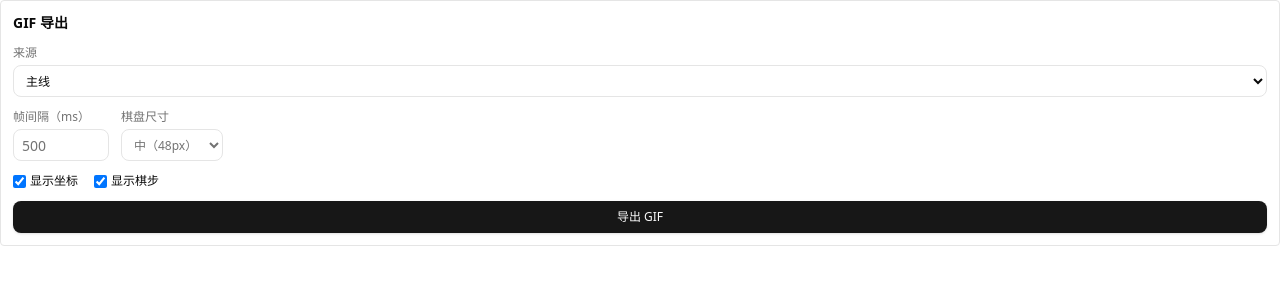
Scenario: GifExportPanel › exports the mainline with options
This screenshot has width=1280, height=291.
Replace the text in the number field with test id "gif-delay" with "300" at coordinates (61, 145), box [13,129,109,161]
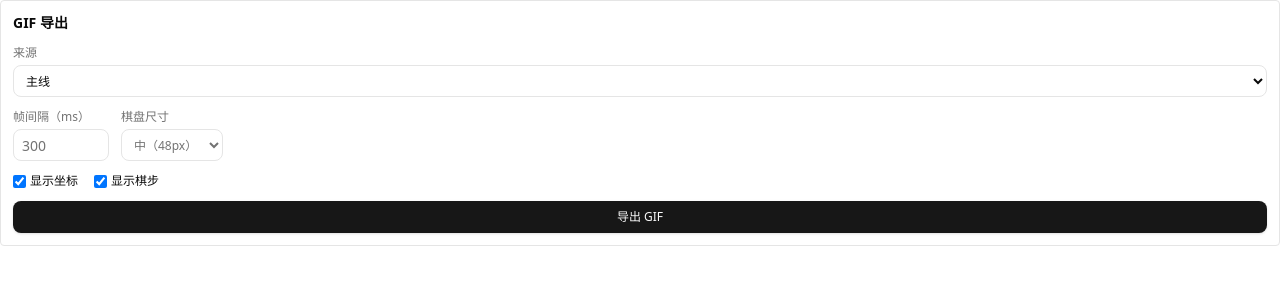
Select "大（64px）" in the dropdown with test id "gif-cell" at coordinates (172, 145), box [121,129,223,161]
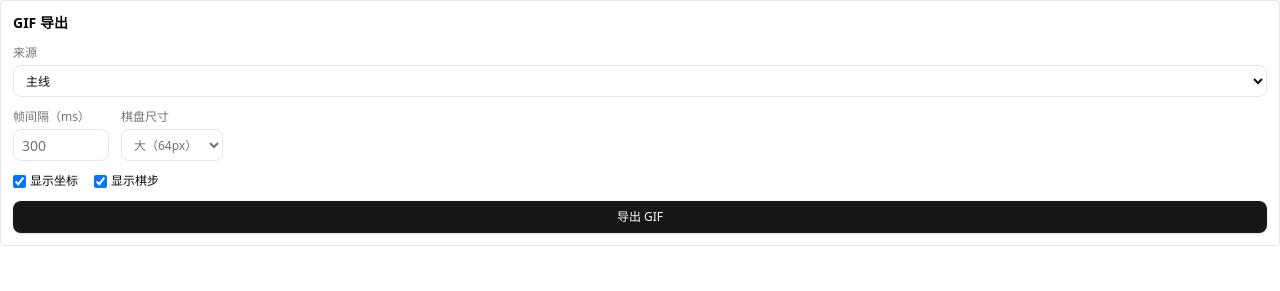
Click the checkbox with test id "gif-coords" at coordinates (20, 181), box [13,174,26,188]
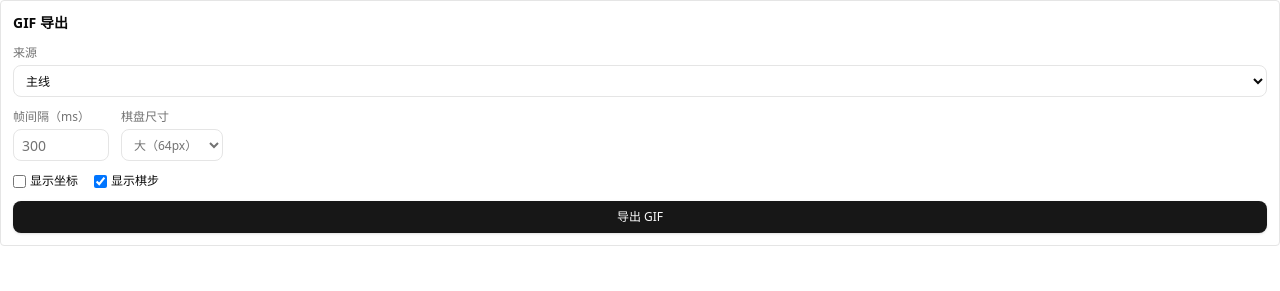
Click the checkbox with test id "gif-moves" at coordinates (100, 181), box [94,174,107,188]
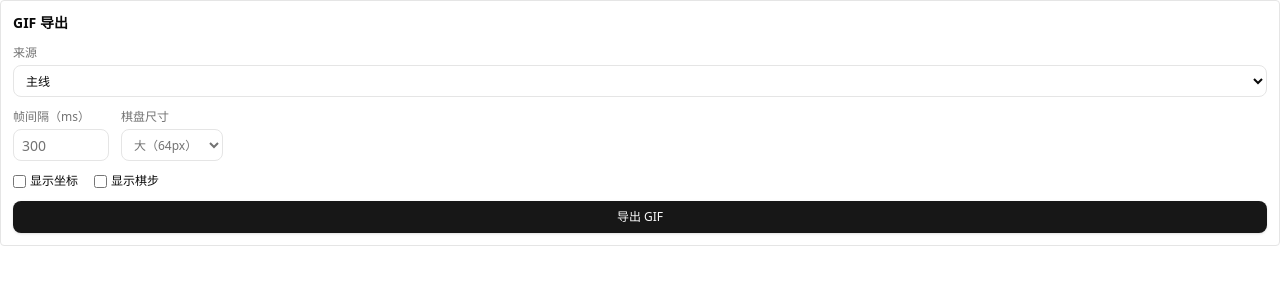
Click the button with test id "gif-export" at coordinates (640, 217), box [13,201,1267,233]
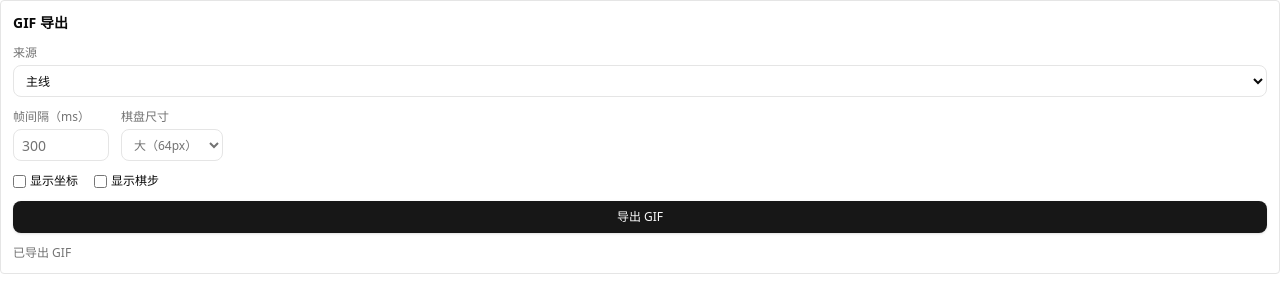
expect the text with test id "gif-message" shows "已导出": met, box [13,244,71,261]
